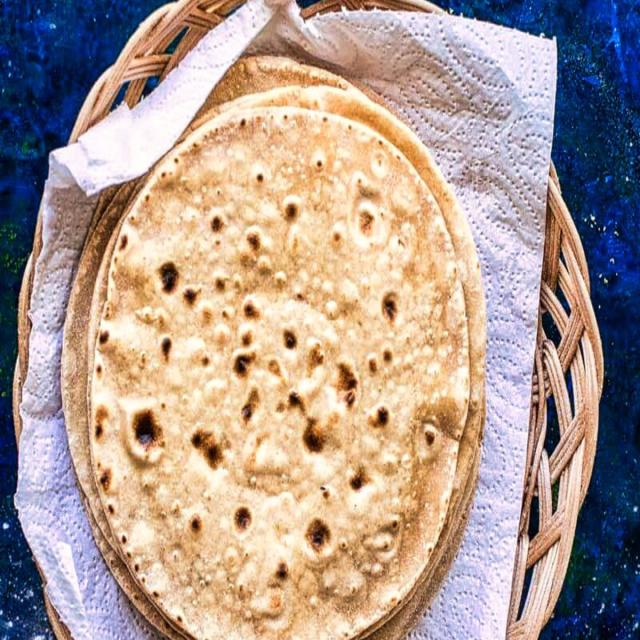chapathi: (40, 61, 497, 640)
